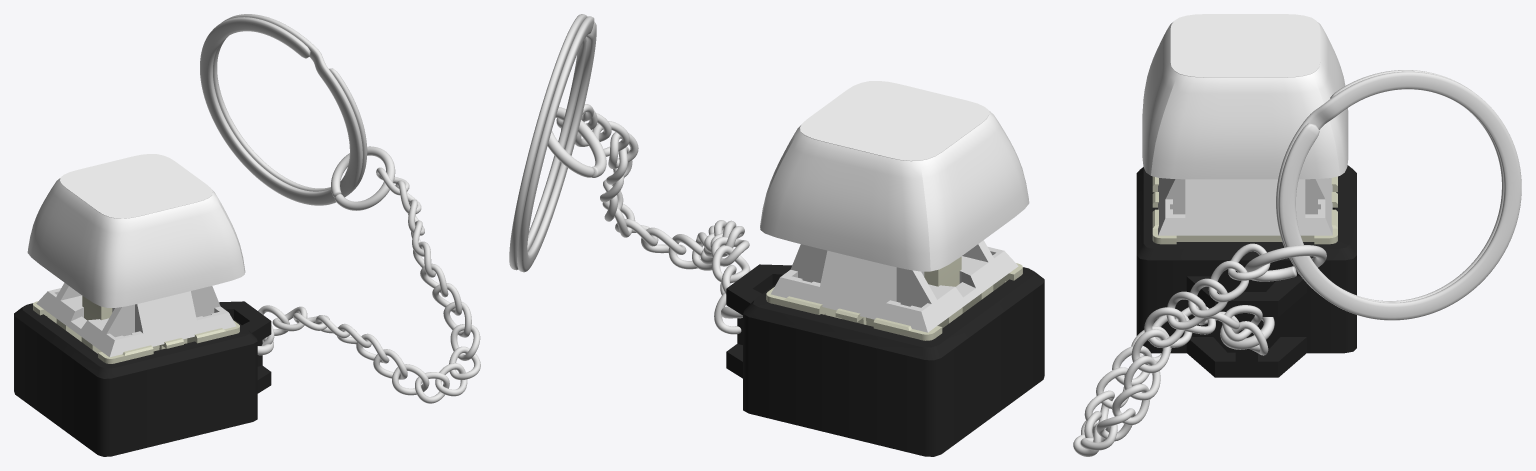
Rendered from keycap9.glb.
The picture shows the model from 3 angles, left to right: view 1: azimuth 30°, elevation 25°; view 2: azimuth 150°, elevation 25°; view 3: azimuth 270°, elevation 25°; orthographic projection. The views are drawn at different scales.
Visible parts, largest first — view 1: Case, Keycap, Chain, Switch; view 2: Case, Keycap, Chain, Switch; view 3: Keycap, Chain, Case, Switch.
Part boxes in pixels (left/top/right/bottom): Case: left=14, top=301, right=271, bottom=456; Keycap: left=27, top=154, right=245, bottom=307; Chain: left=200, top=14, right=480, bottom=403; Switch: left=33, top=282, right=239, bottom=363; Case: left=726, top=264, right=1044, bottom=456; Keycap: left=760, top=81, right=1029, bottom=271; Chain: left=509, top=14, right=750, bottom=334; Switch: left=766, top=240, right=1022, bottom=340; Keycap: left=1142, top=14, right=1348, bottom=179; Chain: left=1073, top=70, right=1521, bottom=456; Case: left=1136, top=165, right=1356, bottom=377; Switch: left=1152, top=176, right=1337, bottom=244.
Bounding box in the file's own units: 0.6925 × 0.5367 × 0.6154.
